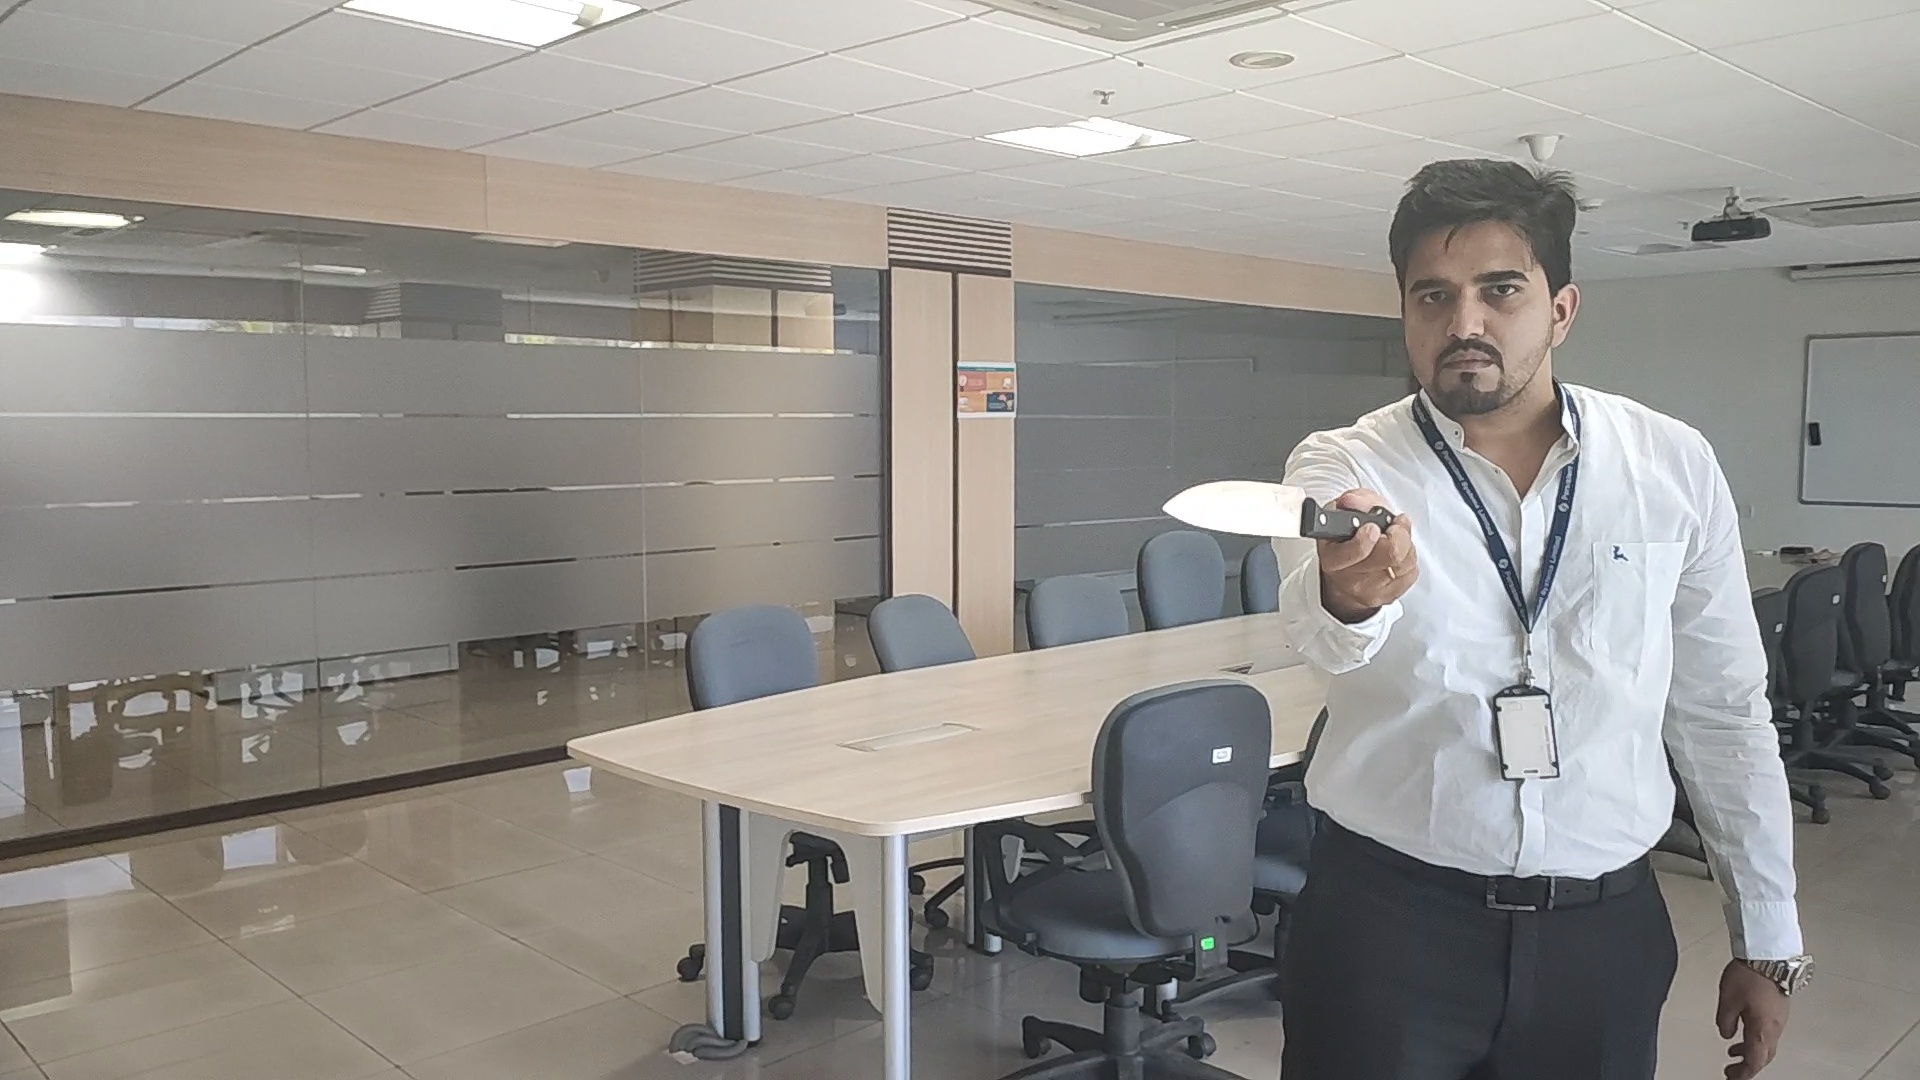knife: (1160, 477, 1361, 545)
